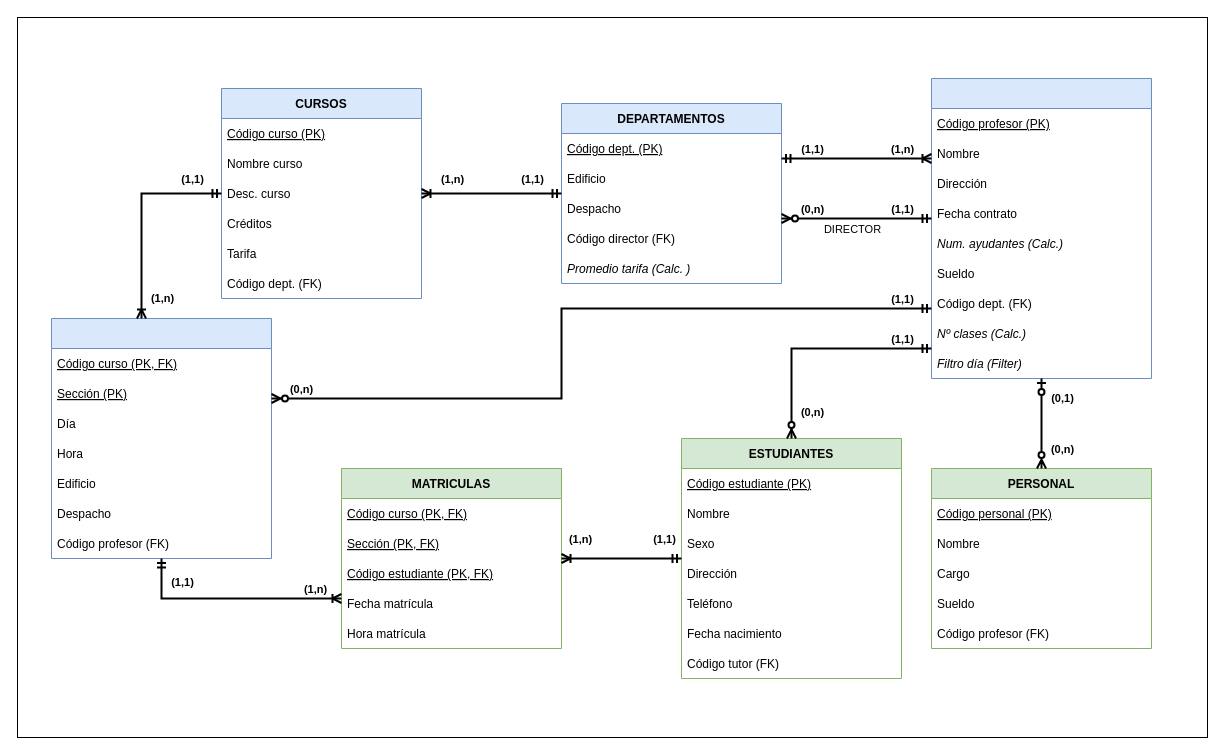
Image size: 1225x755. Some labels were removed from this diagram. The shapes that lost their labels are listed below. From the top down, each one's box as (x1, y1, x2, y2) in pixels, then its label:
(930, 78, 1152, 378): CLAUSTRO
(50, 318, 272, 558): CLASES
